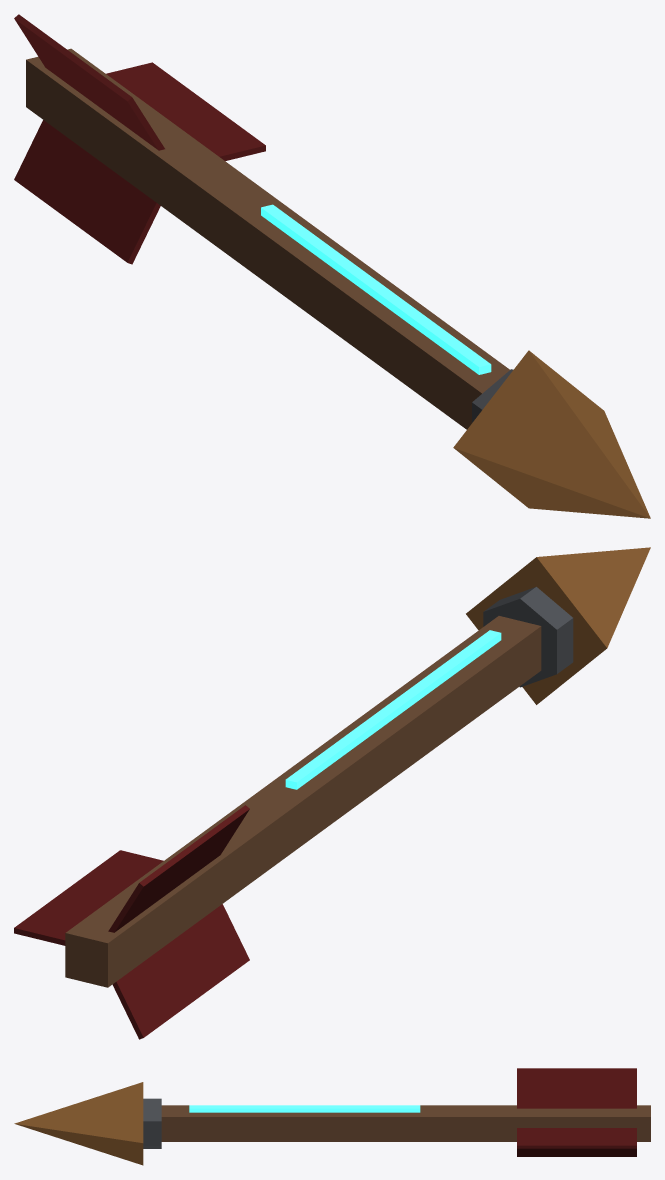
File: projectile_bolt_sniper.glb
3 renders of one model, top to bottom at view 1: azimuth 30°, elevation 25°; view 2: azimuth 150°, elevation 25°; view 3: azimuth 270°, elevation 25°, orthographic. The views are drawn at different scales.
Parts seen in each view (by area): view 1: Shaft, Head, Fletch_2, Fletch_0, RuneLine_1, Fletch_1; view 2: Shaft, Head, Fletch_2, Fletch_0, RuneLine_1, Ferrule, Fletch_1; view 3: Shaft, Head, Fletch_1, Fletch_0, RuneLine_1, Fletch_2, Ferrule.
Part boxes in pixels (x1=…): Shaft: x1=26, y1=48, x2=509, y2=429; Head: x1=453, y1=350, x2=650, y2=518; Fletch_2: x1=14, y1=120, x2=160, y2=264; Fletch_0: x1=106, y1=62, x2=265, y2=161; RuneLine_1: x1=261, y1=204, x2=491, y2=374; Fletch_1: x1=14, y1=14, x2=164, y2=150; Shaft: x1=65, y1=616, x2=541, y2=987; Head: x1=466, y1=547, x2=650, y2=704; Fletch_2: x1=112, y1=904, x2=249, y2=1039; Fletch_0: x1=14, y1=850, x2=163, y2=945; RuneLine_1: x1=285, y1=630, x2=501, y2=789; Ferrule: x1=483, y1=586, x2=573, y2=687; Fletch_1: x1=108, y1=805, x2=249, y2=932; Shaft: x1=161, y1=1105, x2=650, y2=1141; Head: x1=14, y1=1082, x2=143, y2=1165; Fletch_1: x1=517, y1=1068, x2=636, y2=1108; Fletch_0: x1=517, y1=1128, x2=636, y2=1148; RuneLine_1: x1=189, y1=1105, x2=420, y2=1112; Fletch_2: x1=517, y1=1148, x2=636, y2=1156; Ferrule: x1=143, y1=1098, x2=161, y2=1148.
Size of the model in its own units: 0.1485 by 0.1428 by 0.9315.
